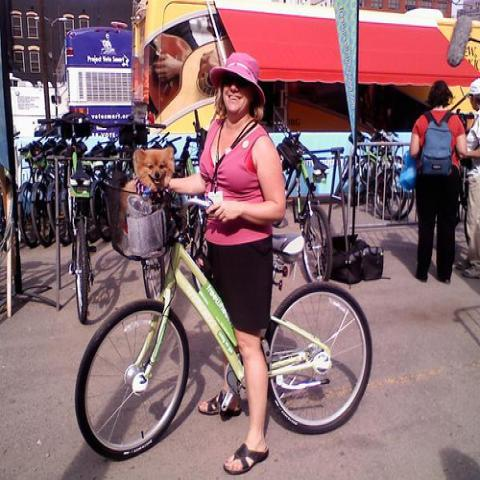bus: (53, 28, 132, 126)
